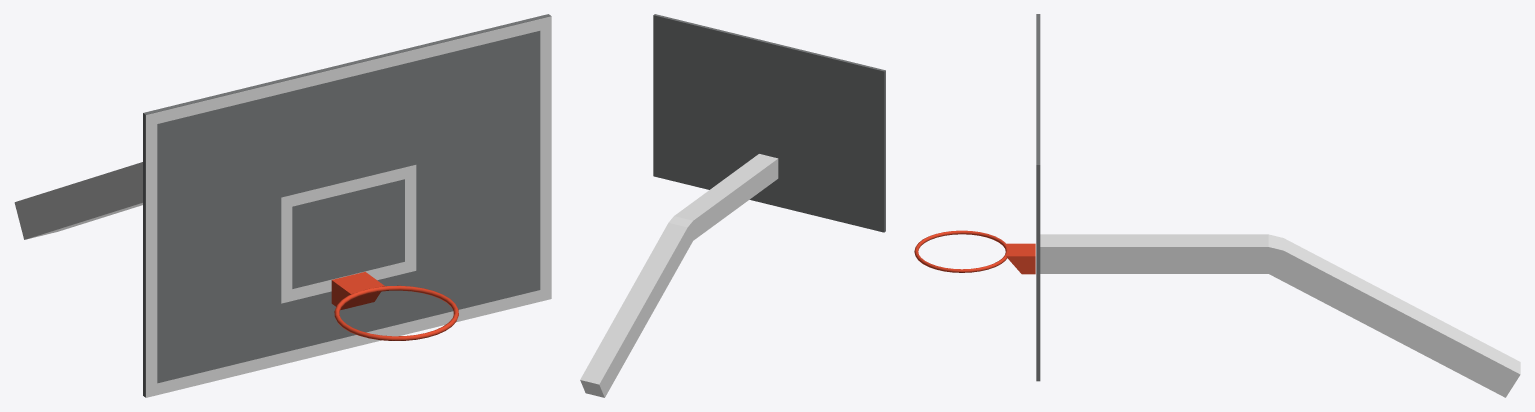
The model's file is rim01.fbx.
3 views of the same model, side by side, from view 1: azimuth 30°, elevation 25°; view 2: azimuth 150°, elevation 25°; view 3: azimuth 270°, elevation 25° (orthographic). The views are drawn at different scales.
Visible parts, largest first — view 1: Plane, Torus; view 2: Plane; view 3: Plane, Torus.
Boxes of the visible parts, x1=… form: Plane: x1=14, y1=14, x2=551, y2=397; Torus: x1=331, y1=271, x2=458, y2=340; Plane: x1=580, y1=14, x2=885, y2=397; Plane: x1=1036, y1=14, x2=1520, y2=397; Torus: x1=914, y1=230, x2=1035, y2=274.
Size of the model in its own units: 1.8 by 3.05 by 1.68.
